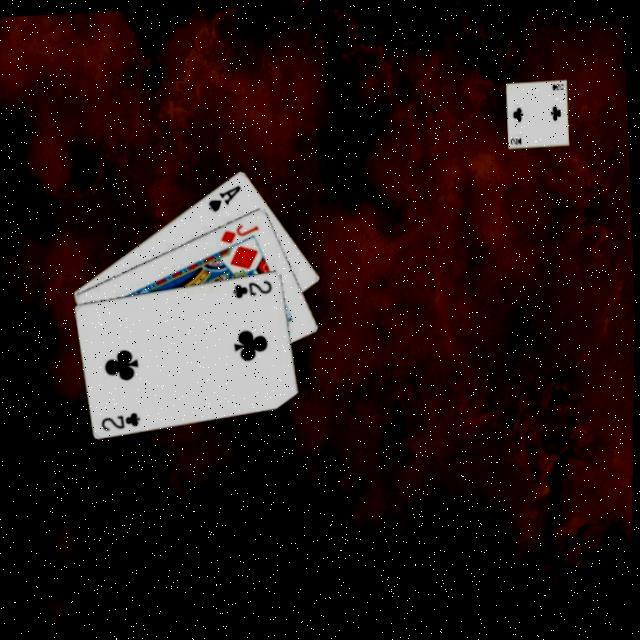2C: (101, 407, 146, 432), (233, 274, 278, 298)
AS: (206, 180, 248, 212)
JD: (219, 218, 264, 245)
